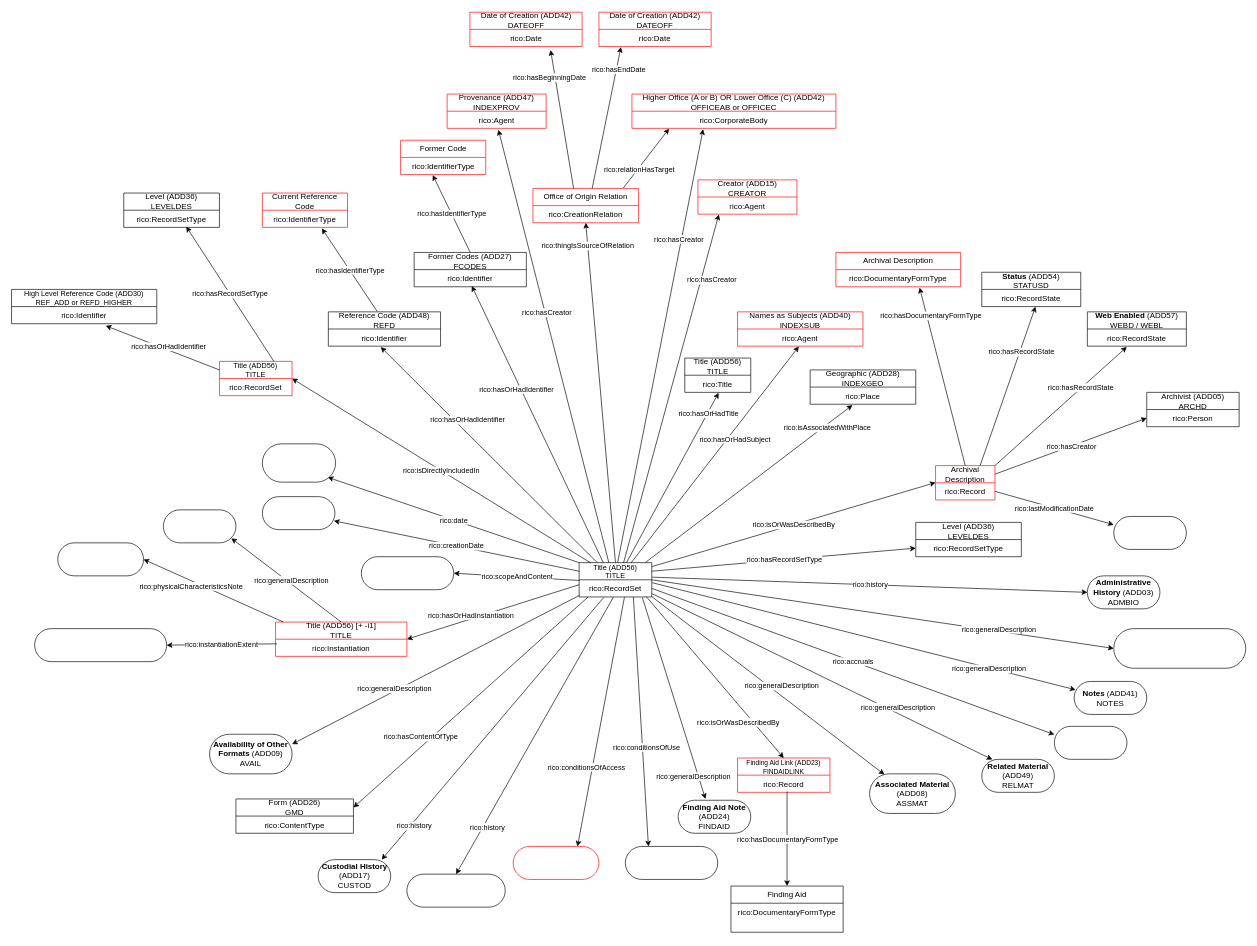
The diagram is 1257 pixels wide and 946 high, and some of its shapes have lost their labels. The centre of each missing label's shape, as x and y in pixels:
Access Restrictions (ADD01) RESTRTX / REST: the point at 555,862
Accruals (ADD02) ACCRUAL: the point at 1090,742
Archivist's Comments (ADD06) or Hidden Notes (ADD29) CMTD or HIDDENNOTES: the point at 1179,648
Date Modified (ADD21) MODDATE: the point at 1149,532
Dates of Accumulation (ADD18) DATEACM: the point at 299,462
Dates of Creation (ADD19) DATECR: the point at 298,513
How to Order (ADD31) HOWTO: the point at 199,526
Immediate Source of Acquisition (ADD33) ISA: the point at 455,890
Physical Condition (ADD45) PHYSCO: the point at 100,559
Physical Description (ADD46) PHDESC: the point at 100,645
Scope and Content (ADD51) SCOPE: the point at 407,573
Terms Governing Use (ADD55) TGU: the point at 671,862
